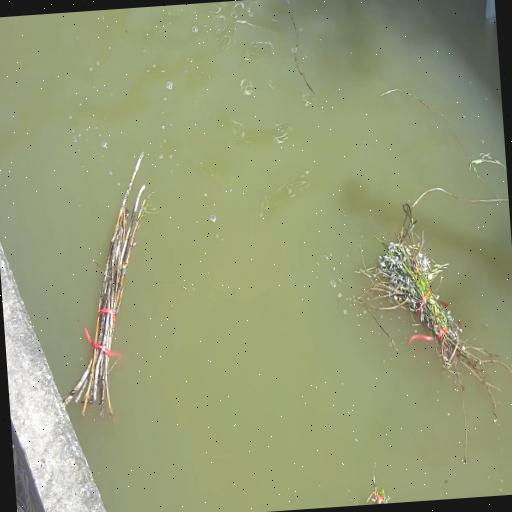twig: (44, 147, 168, 414), (367, 214, 481, 398)
